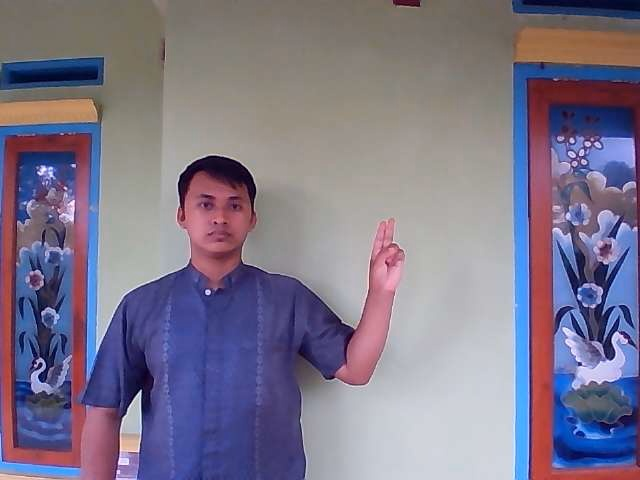U: (364, 216, 407, 298)
